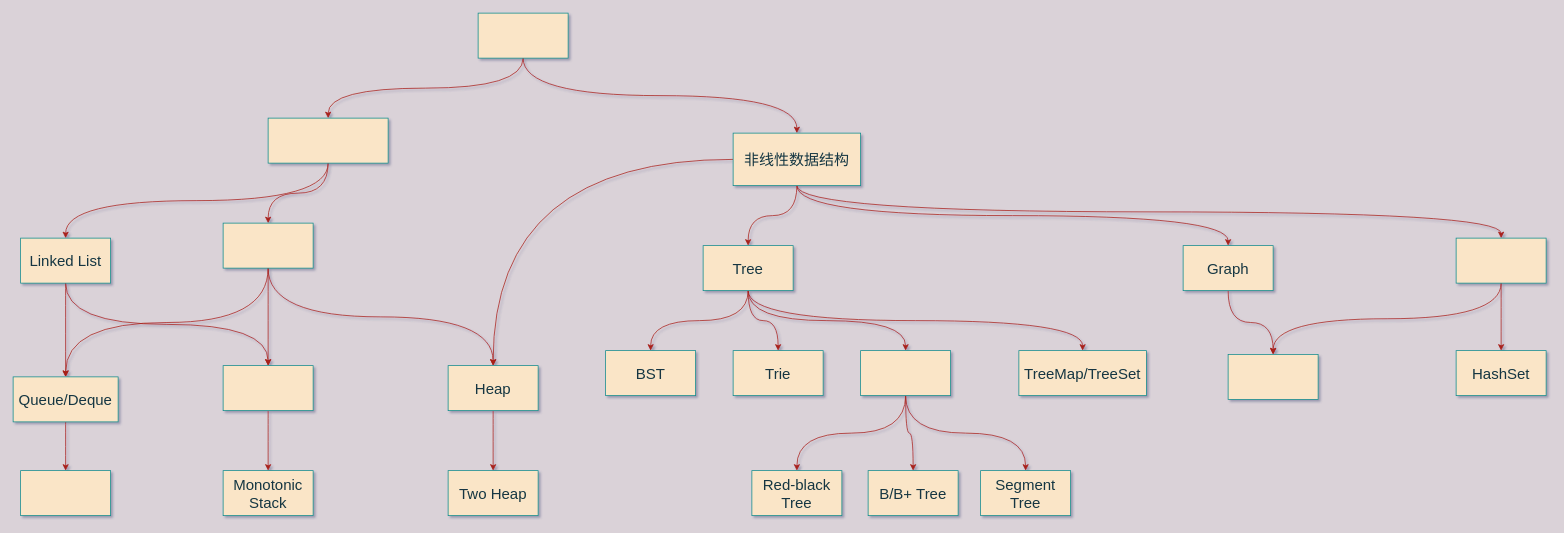
Image size: 1564x533. Some labels were removed from this diagram. The centre of each missing label's shape, as x and y in pixels:
Array(String): the point at 267,245
BBST: the point at 905,373
HashMap: the point at 1500,260
Monotonic Queue: the point at 65,493
Stack: the point at 267,388
Union Find: the point at 1272,376
数据结构: the point at 522,35
线性数据结构: the point at 327,140
